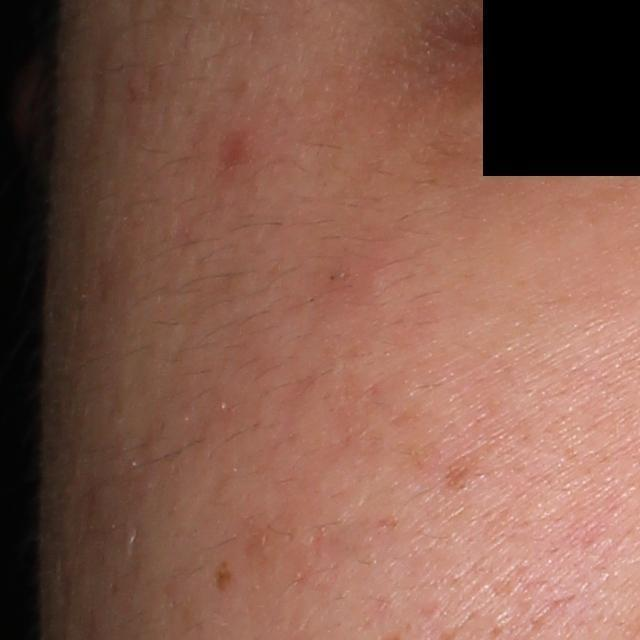melasma: (215, 560, 237, 594)
